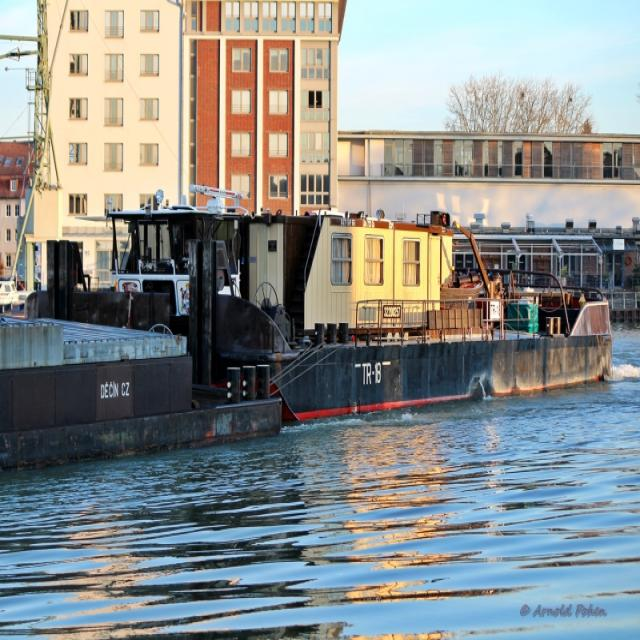tugboat: (42, 180, 618, 436)
